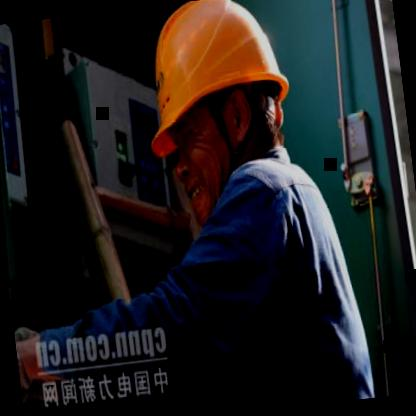helmet: (125, 0, 316, 232)
